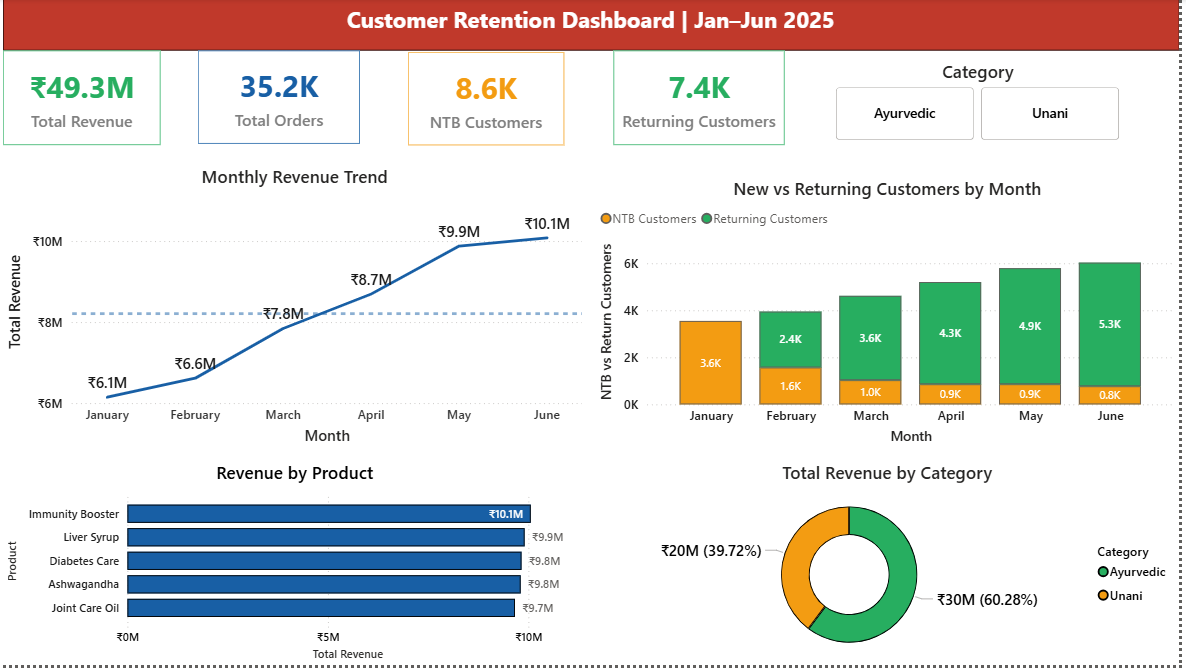

What the dashboard file says about the page in this screenshot:
{"tool":"powerbi","page":{"name":"Executive Overview","canvas":[1280,720],"ordinal":0},"visuals":[{"type":"textbox","box":[10.1,0,1269.9,56.7],"z":0},{"type":"card","fields":{"Values":["_Measures.Total Revenue"]},"box":[9.7,56.7,170,102],"z":1000},{"type":"card","fields":{"Values":["_Measures.Total Orders"]},"box":[220.2,56.7,174.9,100.4],"z":2000},{"type":"card","fields":{"Values":["_Measures.NTB Customers"]},"box":[446.9,58.3,168.4,100.4],"z":3000},{"type":"card","fields":{"Values":["_Measures.Returning Customers"]},"box":[668.7,56.7,184.6,102],"z":4000},{"type":"lineChart","title":"Monthly Revenue Trend","fields":{"Category":["cohort_enriched.txn_month_str.Variation.Date Hierarchy.Month"],"Y":["_Measures.Total Revenue"]},"box":[9.7,179.7,629.9,307.7],"z":5000},{"type":"columnChart","title":"New vs Returning Customers by Month","fields":{"Category":["cohort_enriched.txn_month_str.Variation.Date Hierarchy.Month"],"Y":["_Measures.NTB Customers","_Measures.Returning Customers"]},"box":[649.3,192.7,629.9,294.7],"z":6000},{"type":"clusteredBarChart","title":"Revenue by Product","fields":{"Category":["cohort_enriched.Product"],"Y":["_Measures.Total Revenue"]},"box":[10,498,630,222],"z":7000},{"type":"donutChart","fields":{"Category":["cohort_enriched.Category"],"Y":["_Measures.Total Revenue"]},"box":[649,498,630,222],"z":8000},{"type":"advancedSlicerVisual","fields":{"Values":["cohort_enriched.Category"]},"box":[903.5,66.4,317.4,92.3],"z":9000}]}

Visuals, with their boxes in screenshot pixels (x1, y1, x2, y2), scaled from the page's 1280x720 canvas onto the 1186x670 screenshot:
textbox: [9,0,1185,53]
card - _Measures.Total Revenue: [9,53,167,148]
card - _Measures.Total Orders: [204,53,366,146]
card - _Measures.NTB Customers: [414,54,570,148]
card - _Measures.Returning Customers: [620,53,791,148]
"Monthly Revenue Trend" lineChart: [9,167,593,454]
"New vs Returning Customers by Month" columnChart: [602,179,1185,454]
"Revenue by Product" clusteredBarChart: [9,463,593,669]
donutChart - cohort_enriched.Category x _Measures.Total Revenue: [601,463,1185,669]
advancedSlicerVisual - cohort_enriched.Category: [837,62,1131,148]
